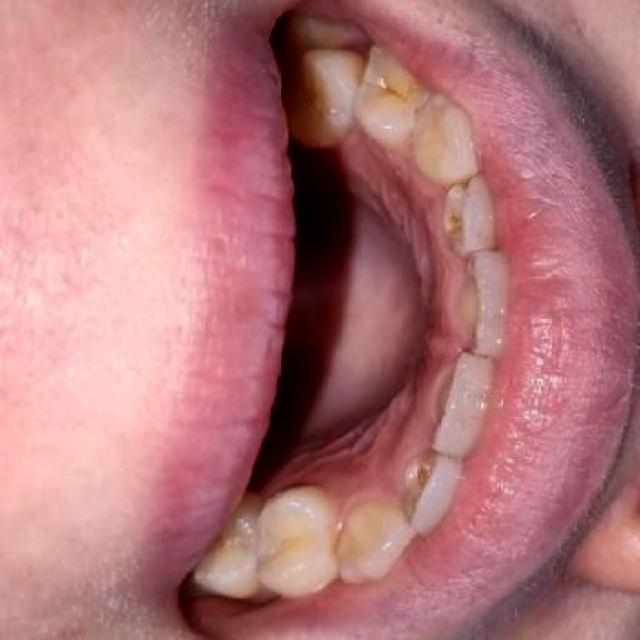Plaque: (358, 64, 423, 118)
